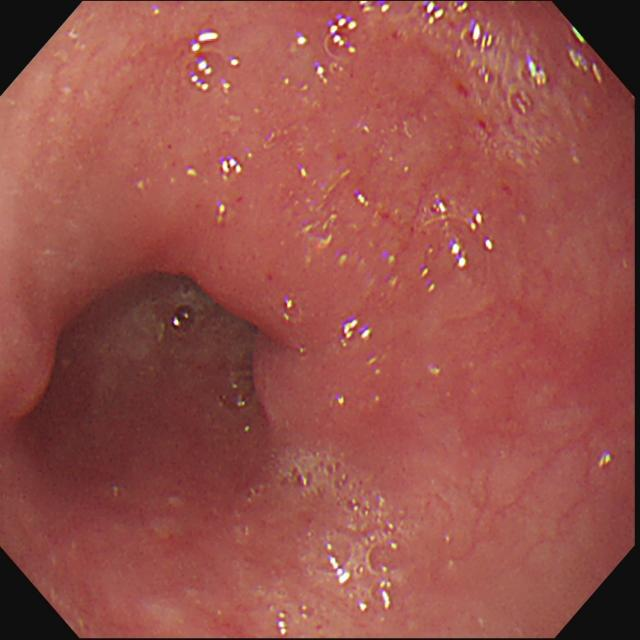E: (37, 258, 278, 453)
T: (267, 450, 407, 636), (362, 2, 552, 124), (414, 205, 492, 297), (317, 29, 362, 86), (187, 49, 234, 97), (167, 290, 210, 336)
U: (341, 318, 371, 349), (220, 157, 244, 177)
